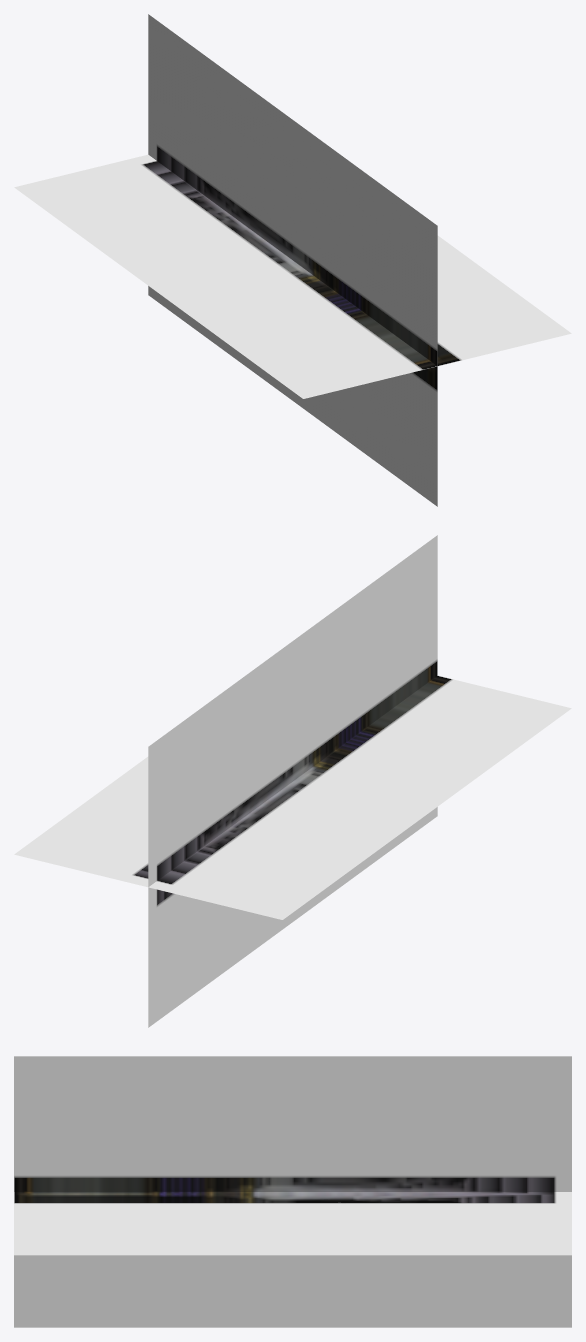
The model's file is binggong_jian_05.FBX.
3 renders of one model, top to bottom at view 1: azimuth 30°, elevation 25°; view 2: azimuth 150°, elevation 25°; view 3: azimuth 270°, elevation 25°, orthographic. The views are drawn at different scales.
Parts seen in each view (by area): view 1: binggong_jian_04_1; view 2: binggong_jian_04_1; view 3: binggong_jian_04_1.
Boxes of the visible parts, x1,y1,x2,y2 form: binggong_jian_04_1: (14,14,571,506); binggong_jian_04_1: (14,535,571,1027); binggong_jian_04_1: (14,1056,571,1327).
Size of the model in its own units: 69.88 by 69.88 by 130.
